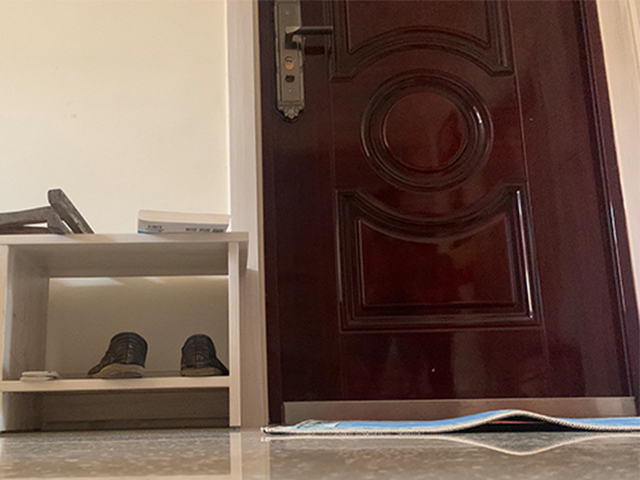carpet: (261, 407, 640, 437)
